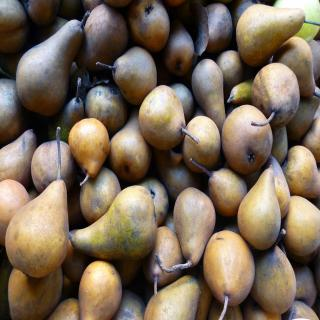Pear: (1, 0, 320, 320)
